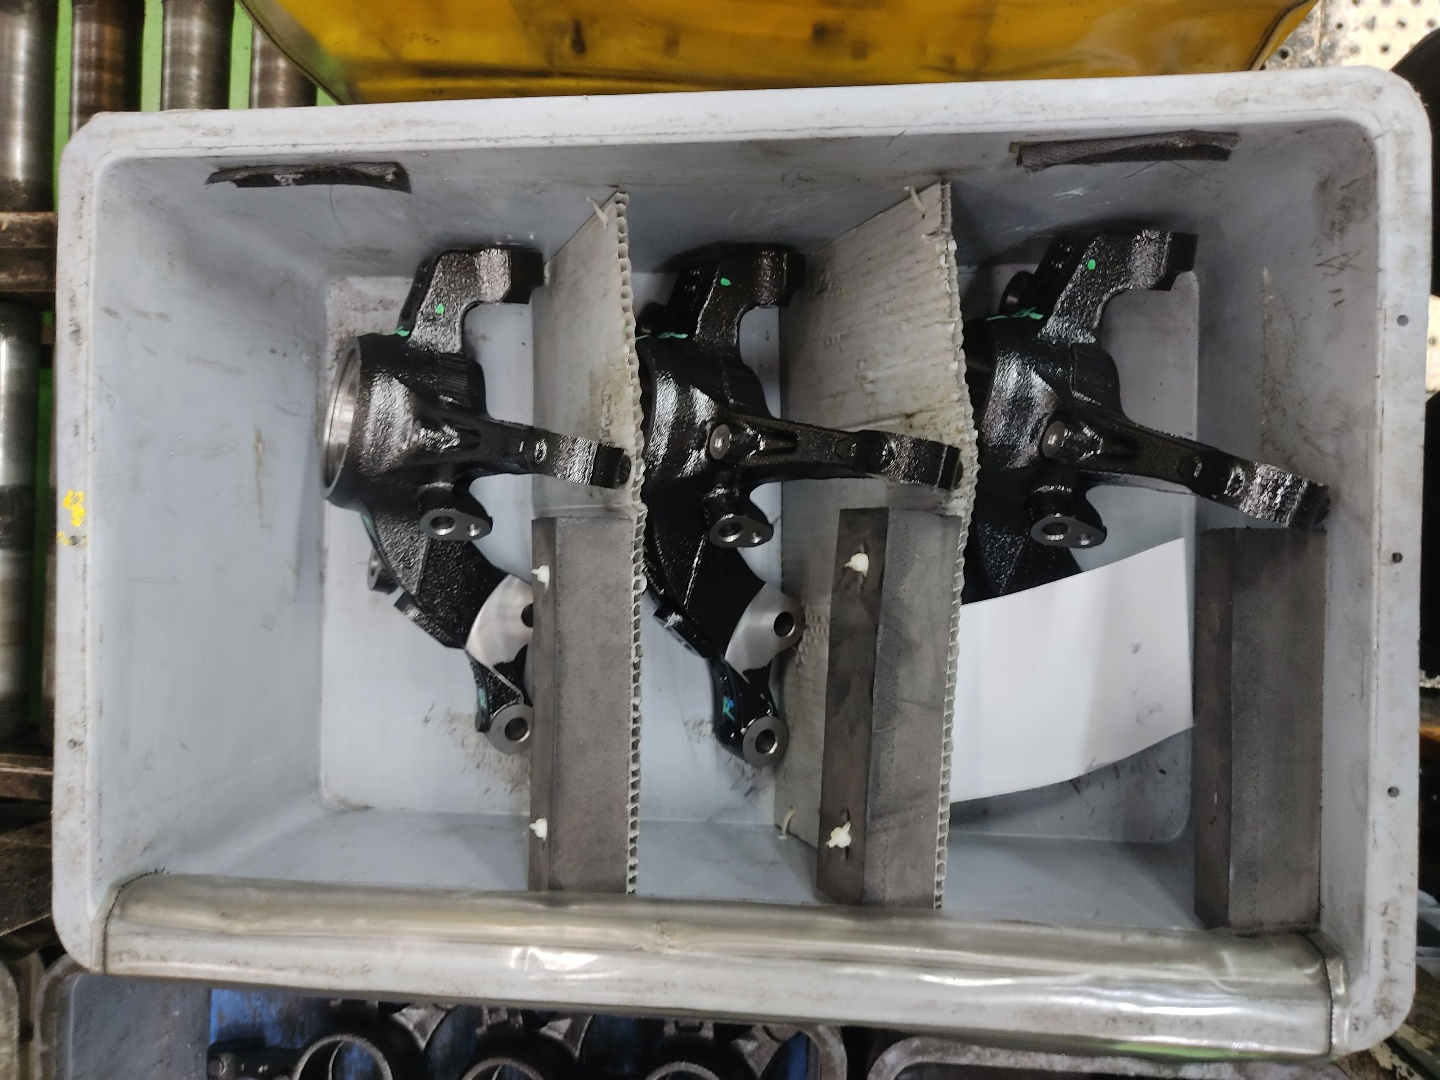abs-rh: (962, 218, 1337, 756), (311, 231, 642, 763), (642, 236, 964, 774)
